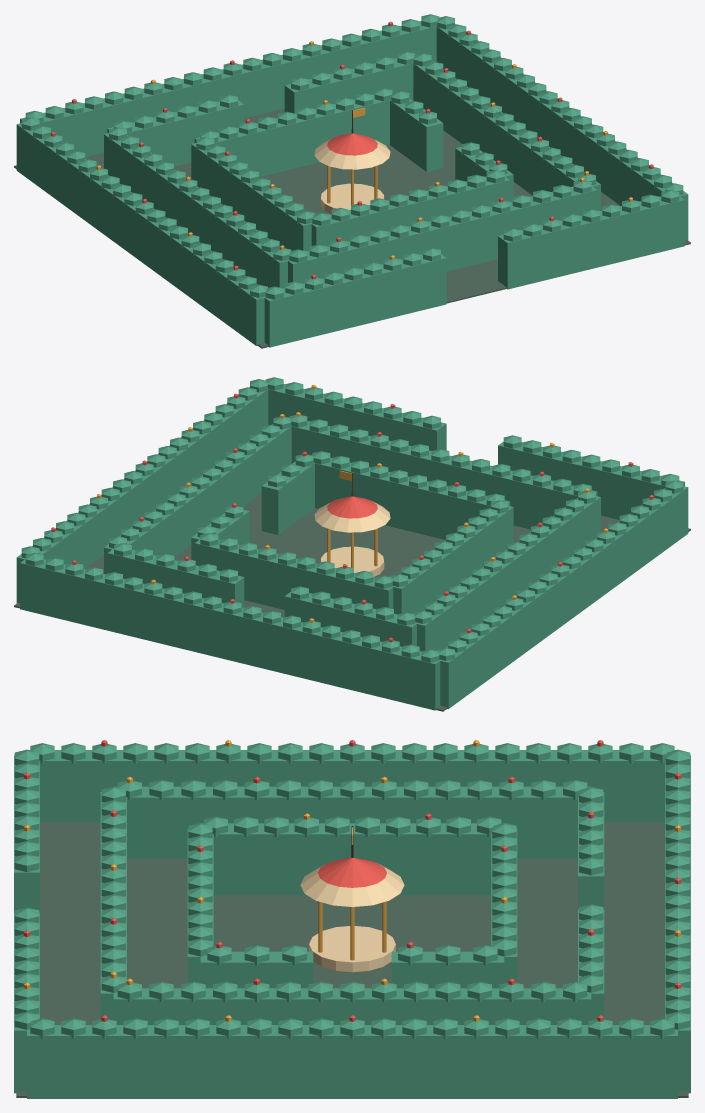
Rendered from ParkParkHedgeMaze.obj.
The picture shows the model from 3 angles, top to bottom: view 1: azimuth 30°, elevation 25°; view 2: azimuth 150°, elevation 25°; view 3: azimuth 270°, elevation 25°; orthographic projection. The views are drawn at different scales.
Parts seen in each view (by area): view 1: ParkParkHedgeMaze; view 2: ParkParkHedgeMaze; view 3: ParkParkHedgeMaze.
Boxes of the visible parts, x1,y1,x2,y2 form: ParkParkHedgeMaze: (14, 14, 690, 348); ParkParkHedgeMaze: (14, 377, 690, 711); ParkParkHedgeMaze: (14, 740, 690, 1098).
Size of the model in its own units: 31.3 by 6.6 by 31.2.
